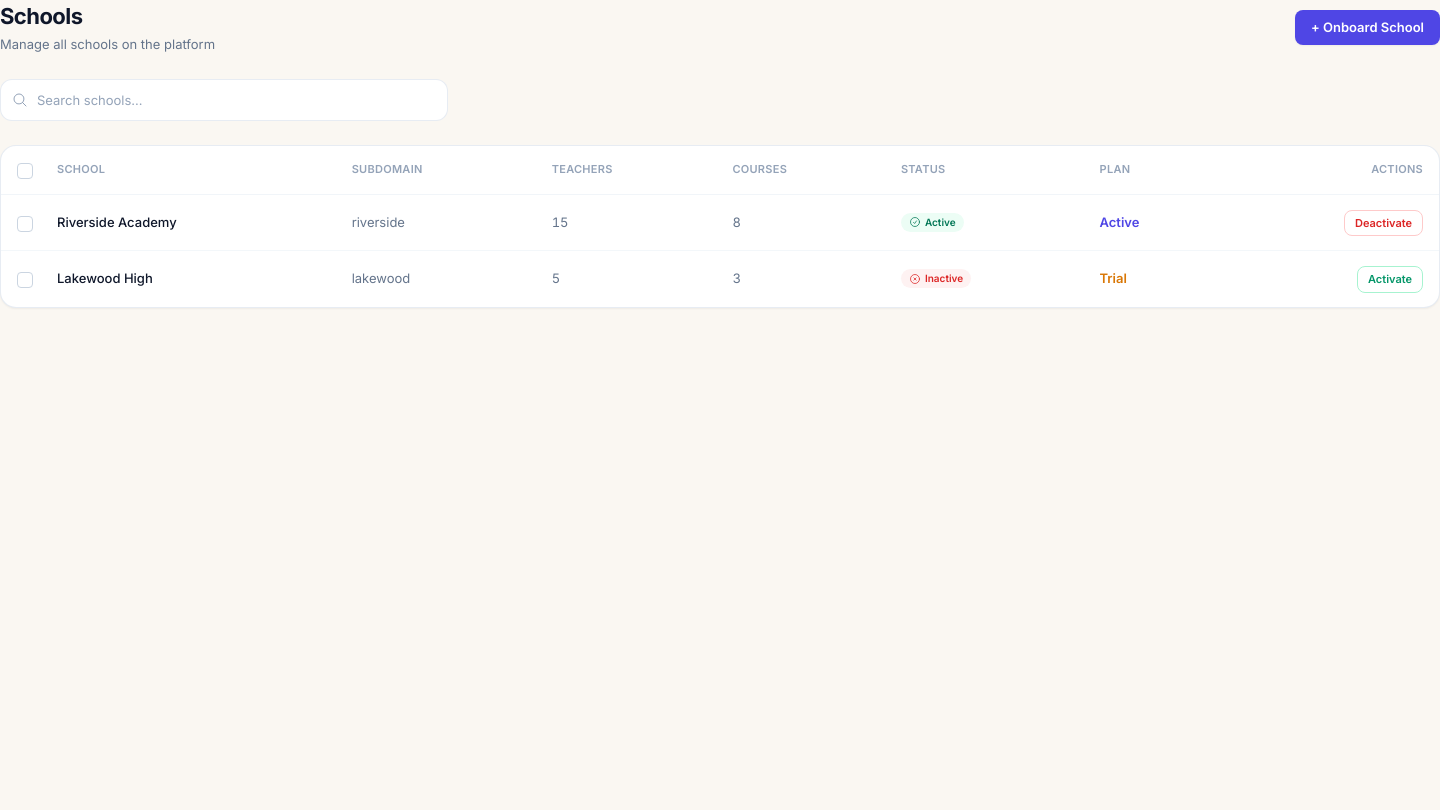
Test case: SchoolsPage › Onboard modal › opens modal when Onboard School button is clicked
The image size is (1440, 810).
Click the button "+ Onboard School": (1367, 27) x1=1295 y1=10 x2=1439 y2=45
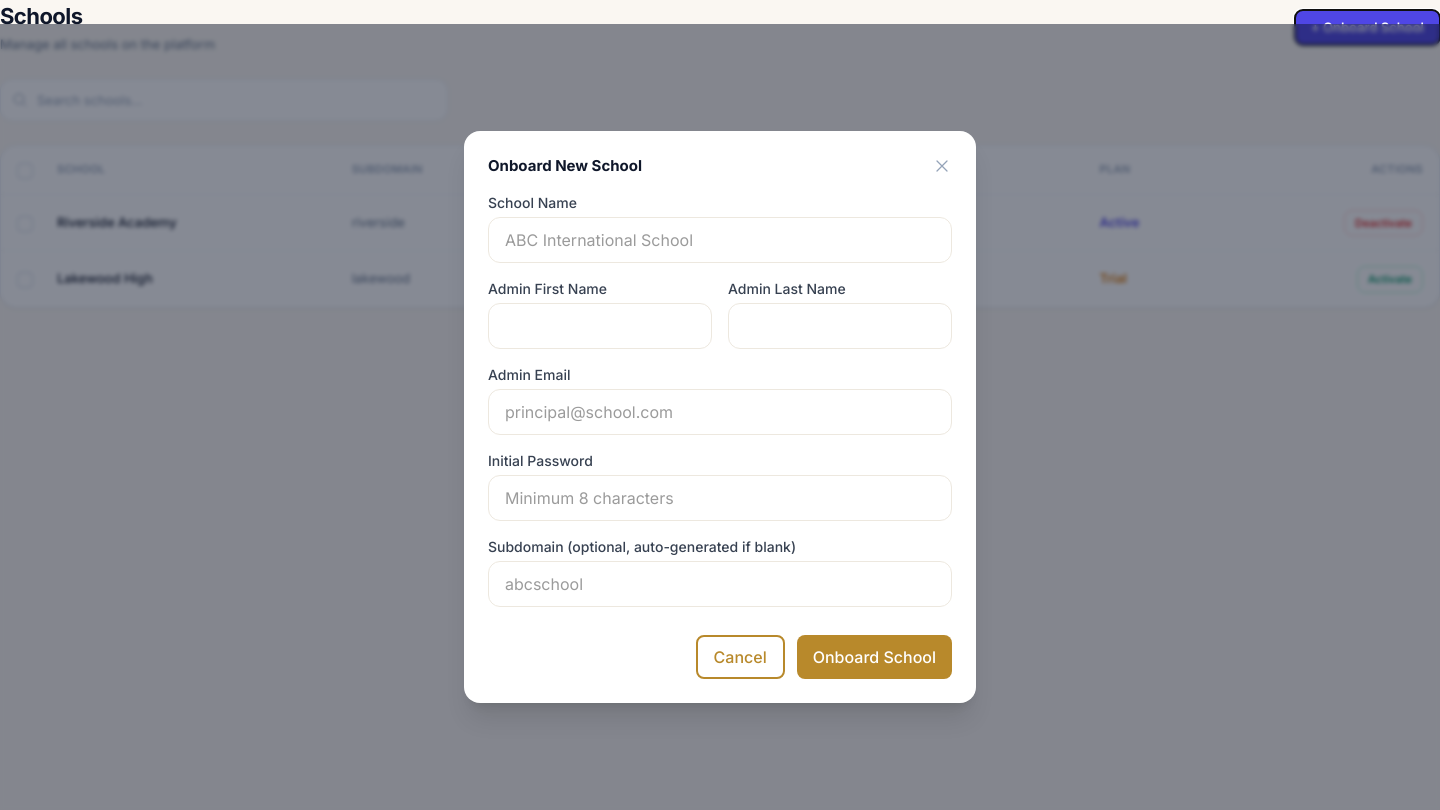
Expected: the heading "Onboard New School" is shown, x1=488 y1=155 x2=642 y2=177
